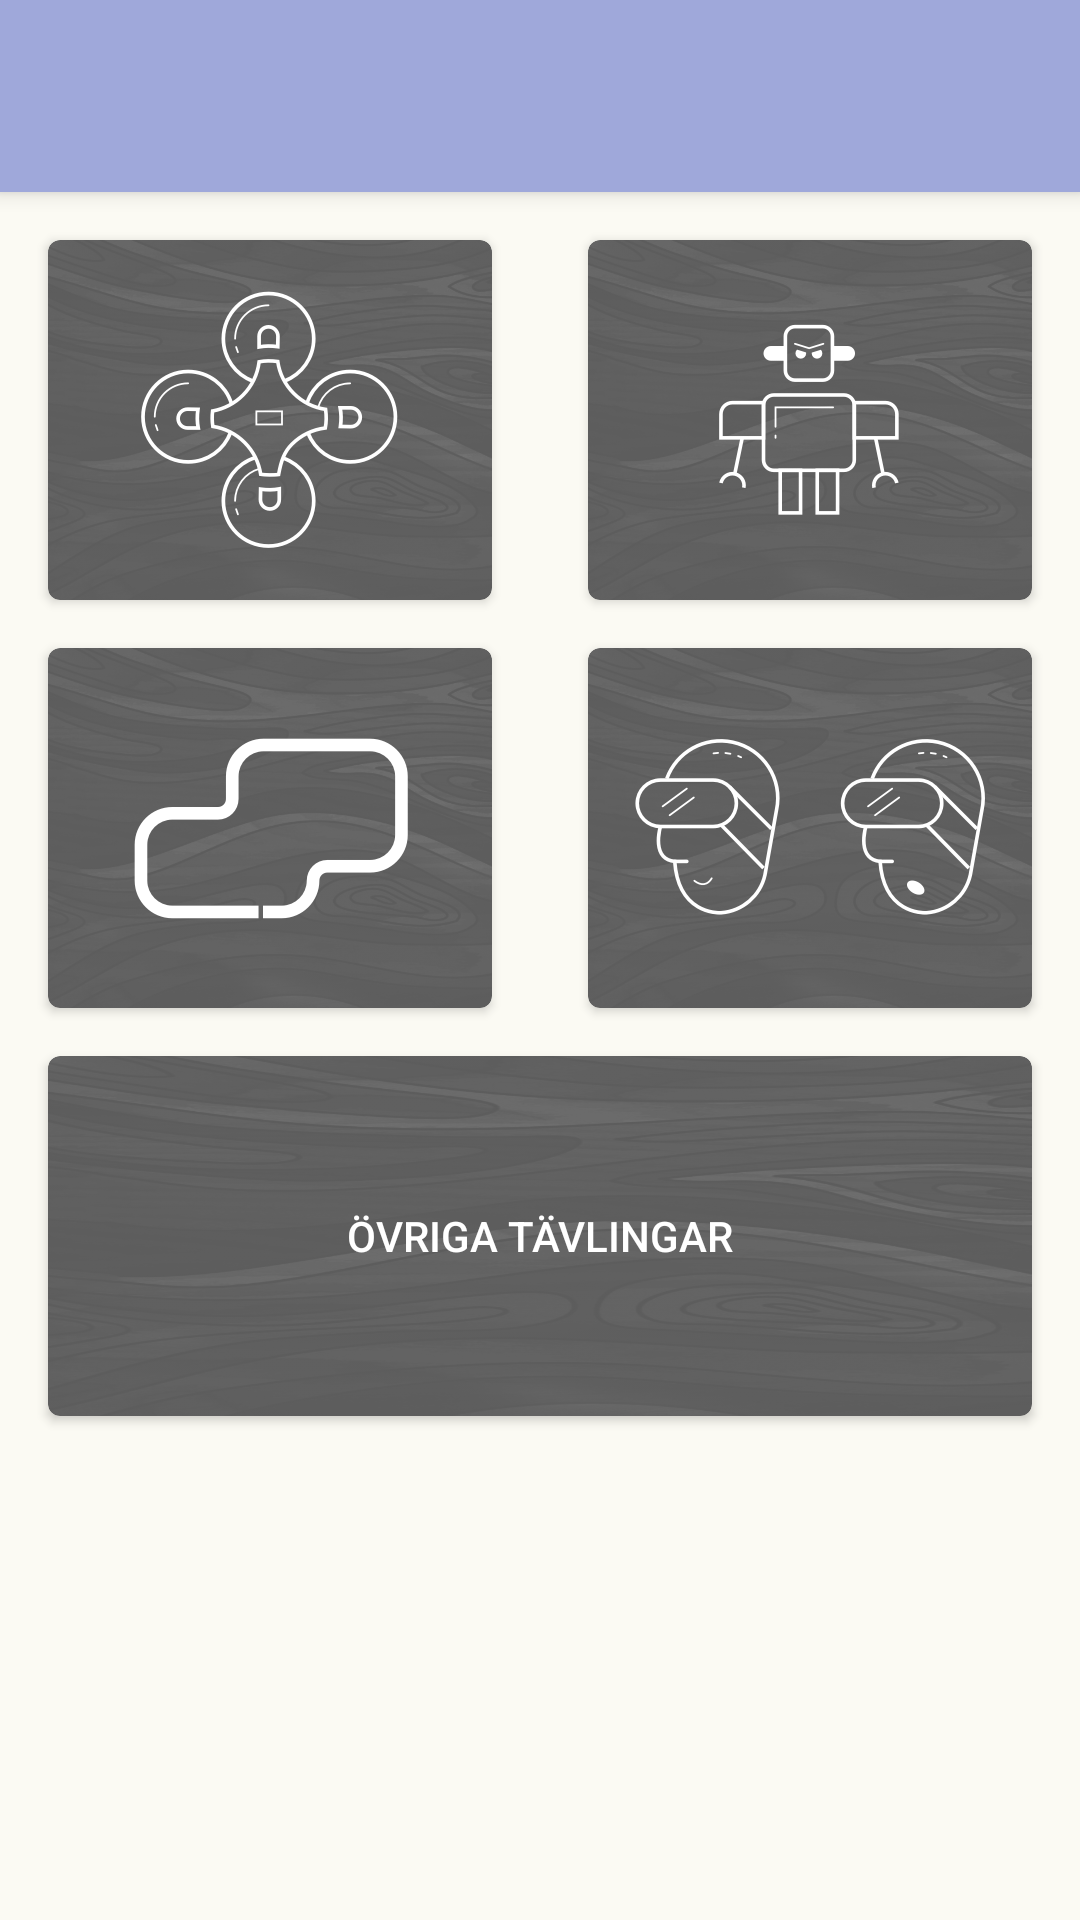

Named icons in this screenshot (1080*1920) and their centers, (x=x, y=y):
drone race: (x=269, y=419)
robot wars: (x=809, y=419)
slot cars: (x=271, y=828)
